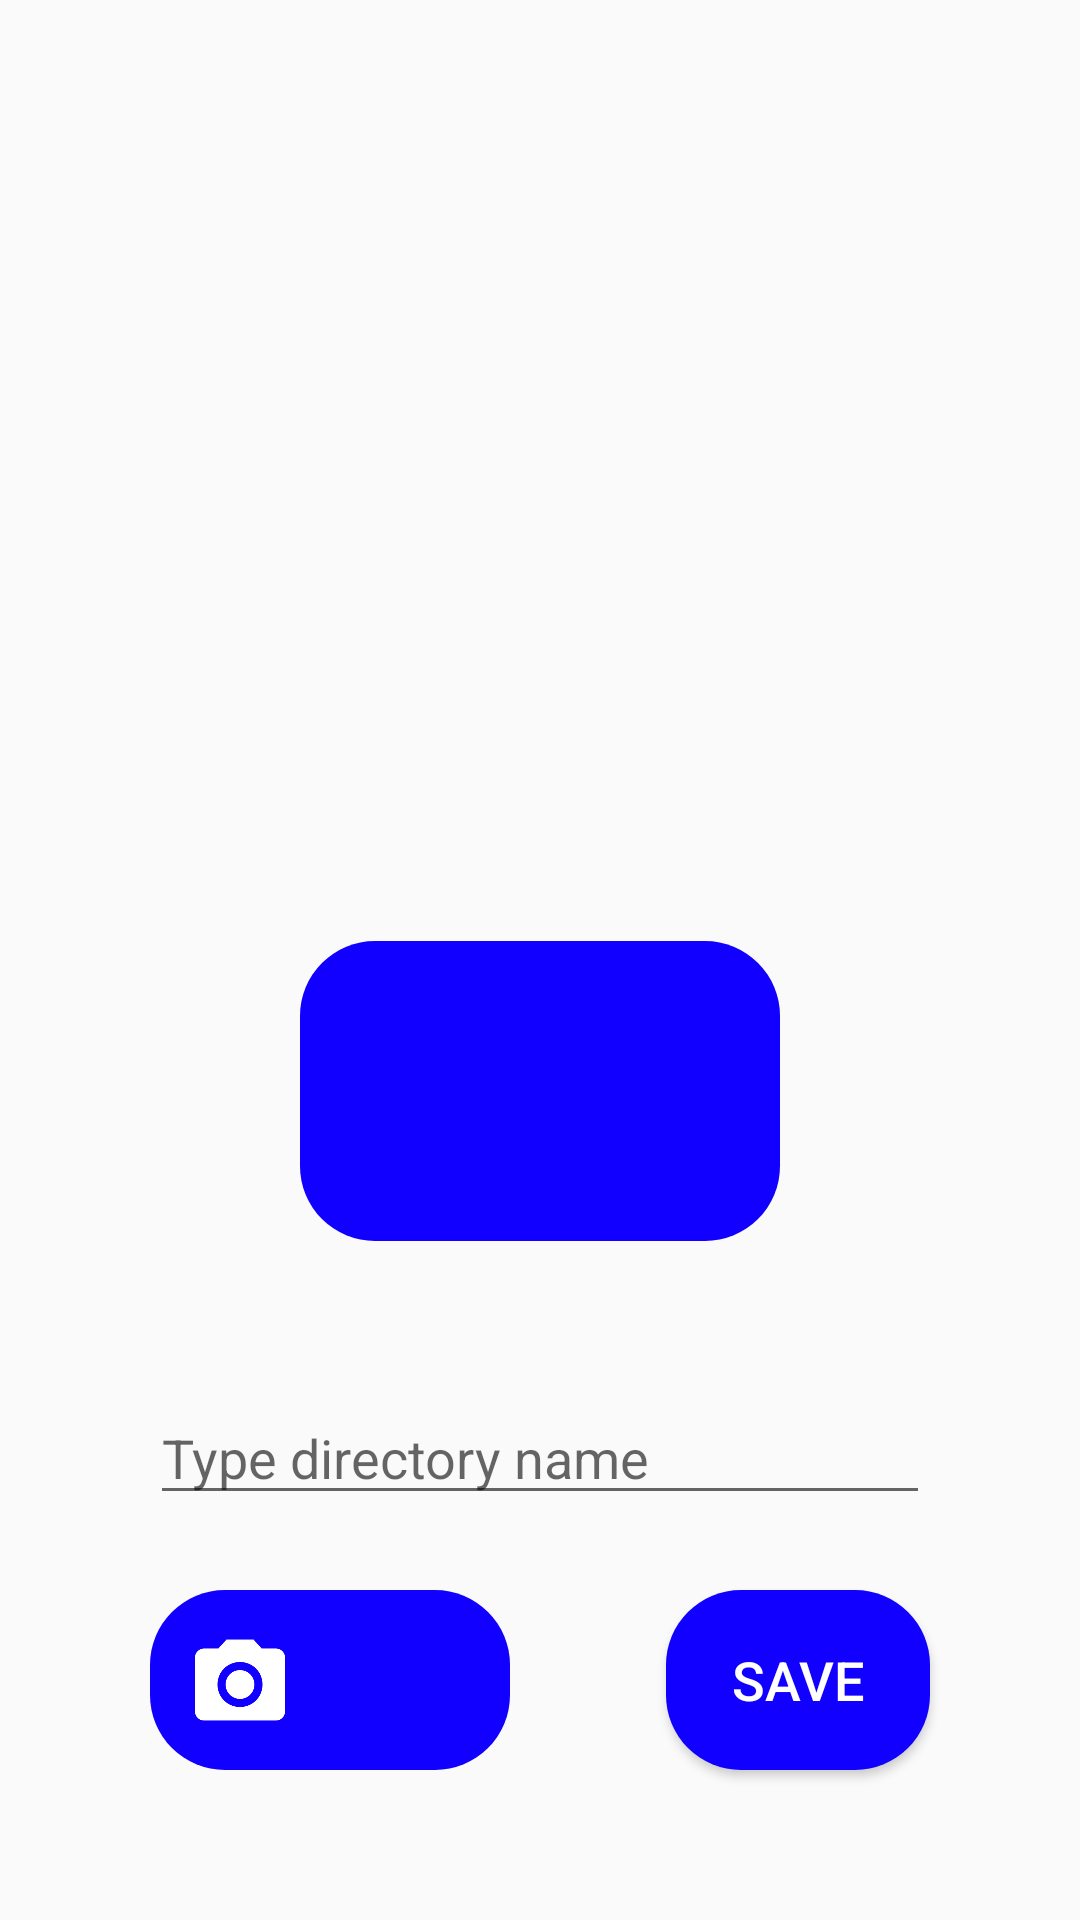

Icon click points for this 1080 × 1920 phone screenshot, format (x=x, y=y):
camera: (x=240, y=1680)
